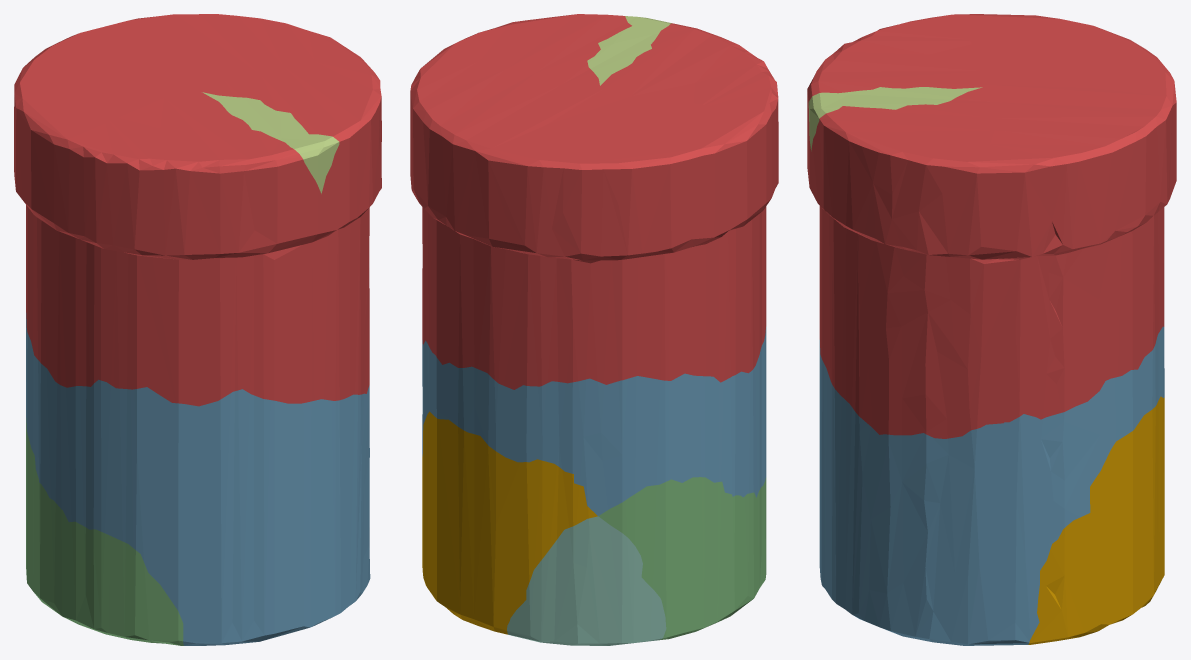
File: fractured_16_6pcs.glb
3 views of the same model, side by side, from view 1: azimuth 30°, elevation 25°; view 2: azimuth 150°, elevation 25°; view 3: azimuth 270°, elevation 25° (orthographic).
Visible parts, largest first — view 1: piece_1.obj, piece_2.obj, piece_3.obj, piece_5.obj; view 2: piece_1.obj, piece_2.obj, piece_0.obj, piece_3.obj, piece_4.obj, piece_5.obj; view 3: piece_1.obj, piece_2.obj, piece_0.obj, piece_5.obj.
Part boxes in pixels (bbox=[...]): piece_1.obj: bbox=[14, 14, 381, 406]; piece_2.obj: bbox=[26, 313, 370, 645]; piece_3.obj: bbox=[26, 418, 183, 645]; piece_5.obj: bbox=[202, 92, 339, 193]; piece_1.obj: bbox=[410, 14, 778, 389]; piece_2.obj: bbox=[422, 327, 766, 515]; piece_0.obj: bbox=[422, 411, 597, 634]; piece_3.obj: bbox=[598, 477, 766, 640]; piece_4.obj: bbox=[507, 516, 666, 645]; piece_5.obj: bbox=[587, 16, 671, 85]; piece_1.obj: bbox=[807, 14, 1176, 438]; piece_2.obj: bbox=[819, 326, 1164, 645]; piece_0.obj: bbox=[1028, 396, 1164, 644]; piece_5.obj: bbox=[808, 87, 982, 151].
Bounding box in the file's own units: 0.6842 × 1 × 0.6842.
